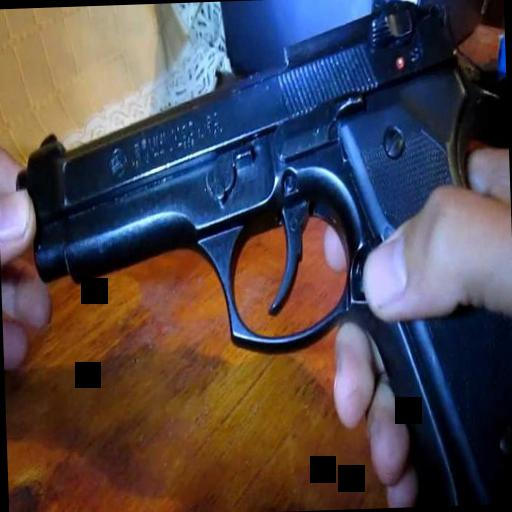Handgun: (14, 1, 512, 512)
